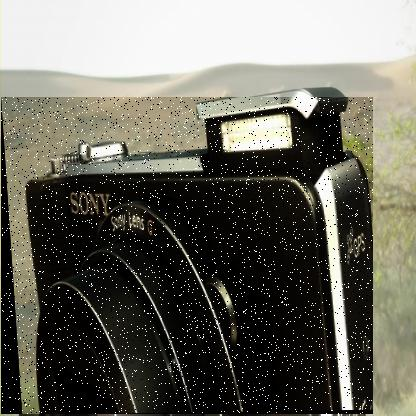Camera: (2, 98, 375, 416)
